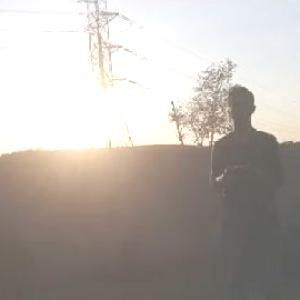follow: (202, 79, 289, 299)
